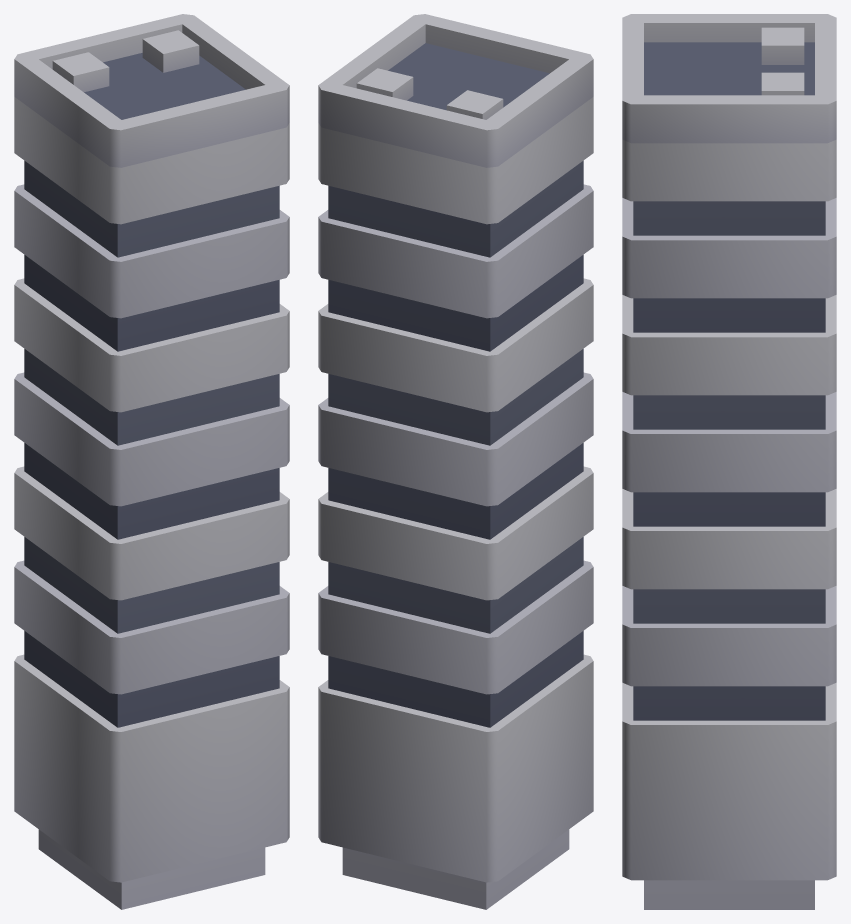
File: low-detail-building-h.glb
3 views of the same model, side by side, from view 1: azimuth 30°, elevation 25°; view 2: azimuth 150°, elevation 25°; view 3: azimuth 270°, elevation 25° (orthographic). The views are drawn at different scales.
Parts seen in each view (by area): view 1: low-detail-building-h; view 2: low-detail-building-h; view 3: low-detail-building-h.
Boxes of the visible parts, <box> form: low-detail-building-h: <box>14,14,289,909</box>; low-detail-building-h: <box>318,14,593,909</box>; low-detail-building-h: <box>622,14,836,909</box>.
Size of the model in its own units: 0.5 by 2.1 by 0.5.
